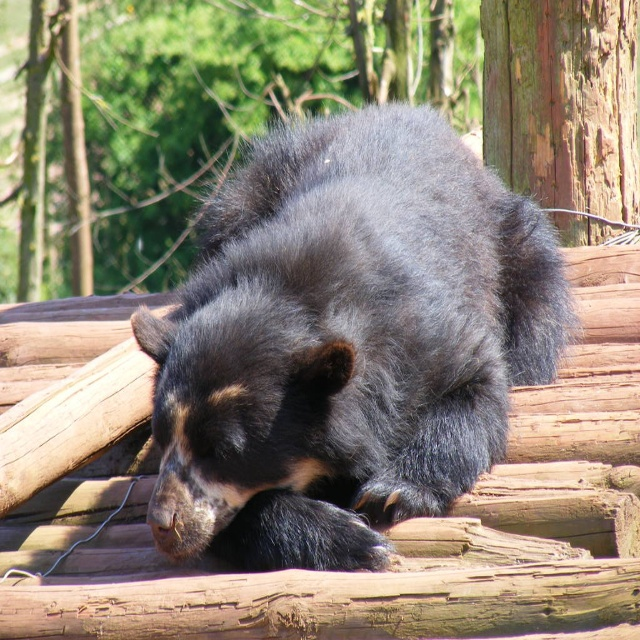Bear: (131, 89, 588, 573)
